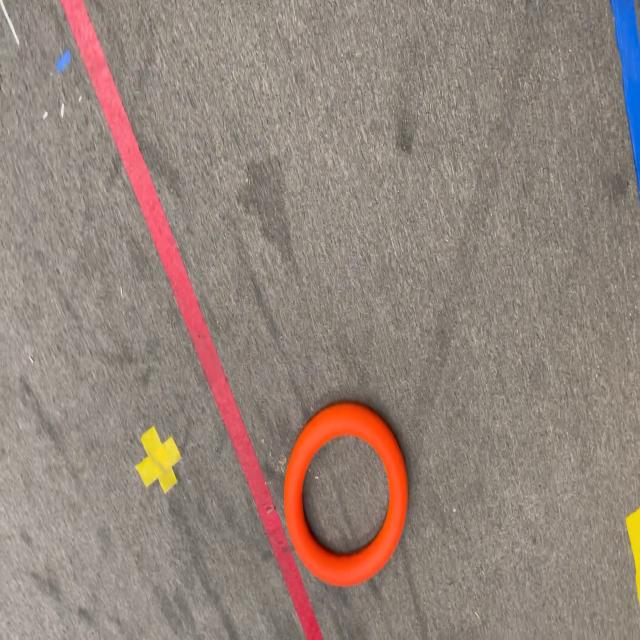note: (284, 402, 408, 584)
